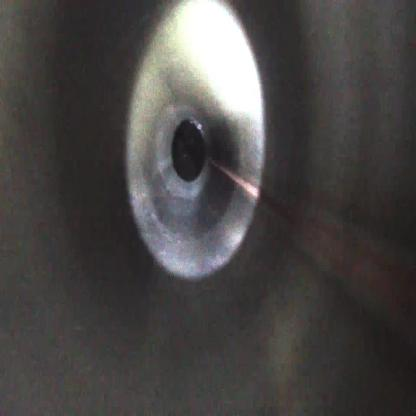NoCrack: (125, 0, 267, 279)
